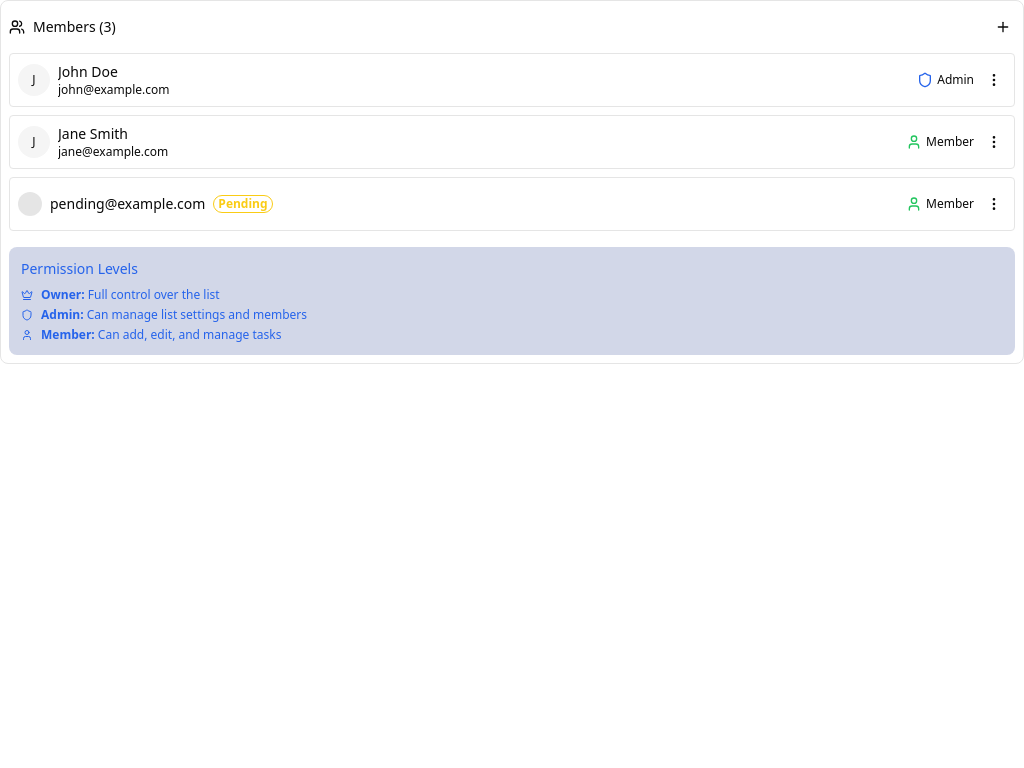
Test: ListMembersManager › allows inviting new members
The image size is (1024, 768).
Later steps or results of the test are not shown.
Expected: the text "Members (3)" is shown, [33,17,116,37]
Click the button without text in the row of "Members (": (1003, 27) [991,9,1015,45]
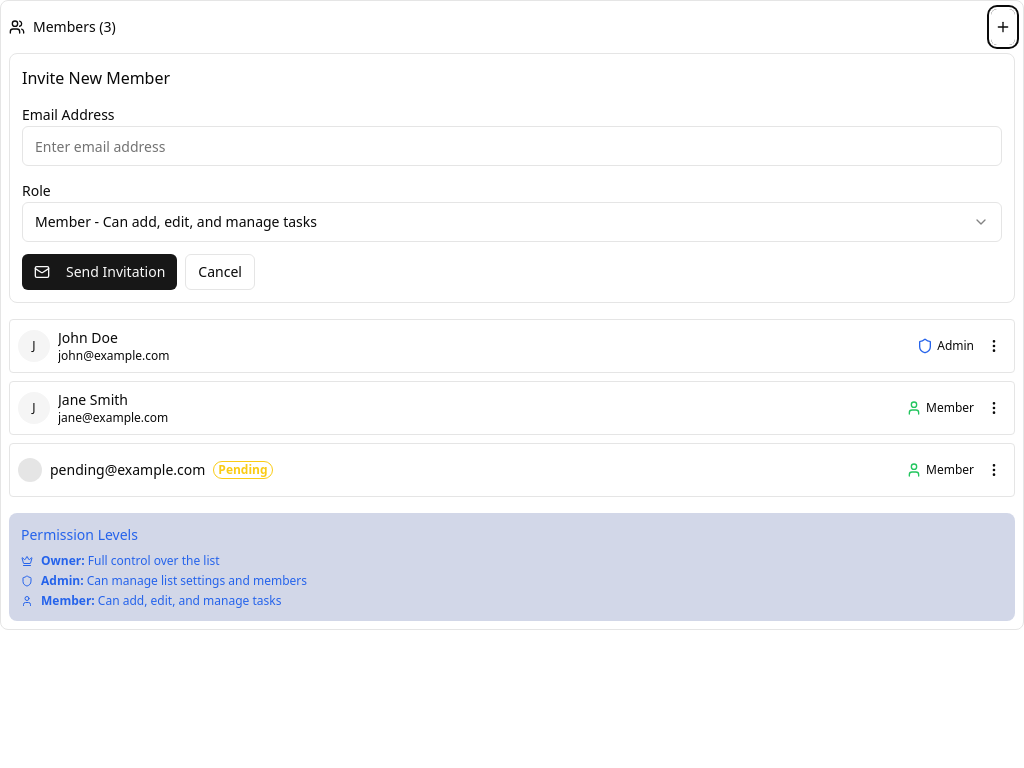
Result: the heading "Invite New Member" is shown at [22,67,170,89]
